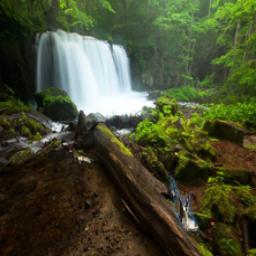Cuckoo: (168, 169, 198, 231)
